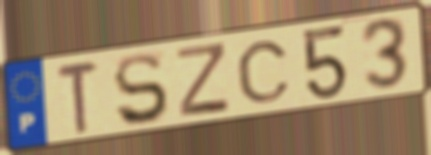3: (361, 15, 410, 95)
5: (299, 23, 349, 102)
C: (234, 39, 294, 106)
S: (111, 51, 172, 129)
T: (54, 59, 102, 137)
Z: (174, 39, 232, 119)
